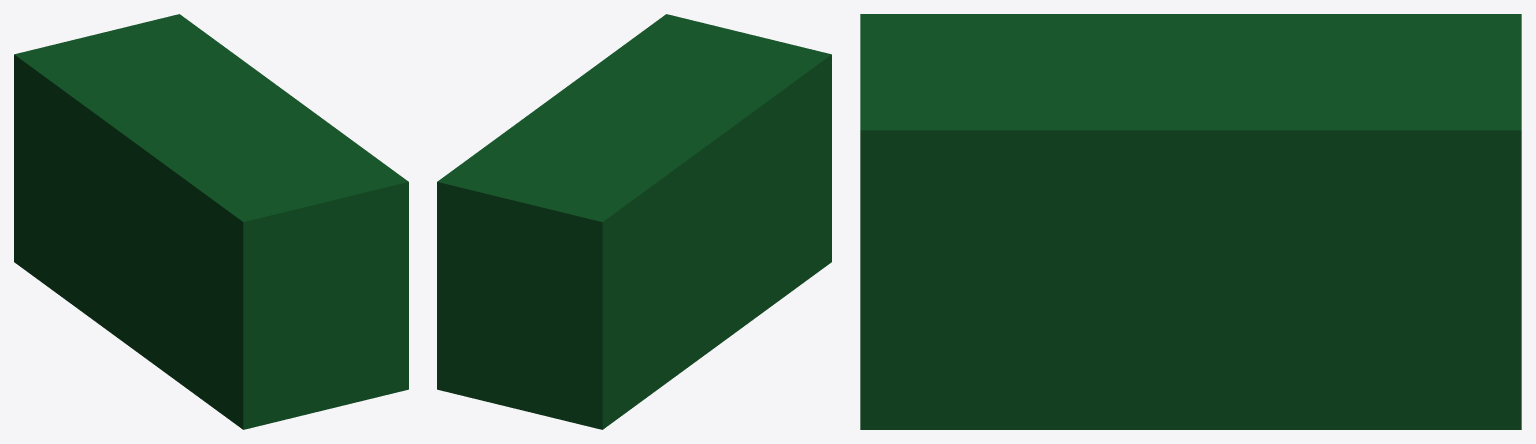
The model's file is Bushes_not.FBX.
The picture shows the model from 3 angles, left to right: view 1: azimuth 30°, elevation 25°; view 2: azimuth 150°, elevation 25°; view 3: azimuth 270°, elevation 25°; orthographic projection. The views are drawn at different scales.
Visible parts, largest first — view 1: Box001; view 2: Box001; view 3: Box001.
Part boxes in pixels (x1,y1,x2,y2): Box001: [14, 14, 408, 429]; Box001: [437, 14, 831, 429]; Box001: [860, 14, 1521, 429].
Size of the model in its own units: 50 by 120 by 60.
1 material, 1 textured.
